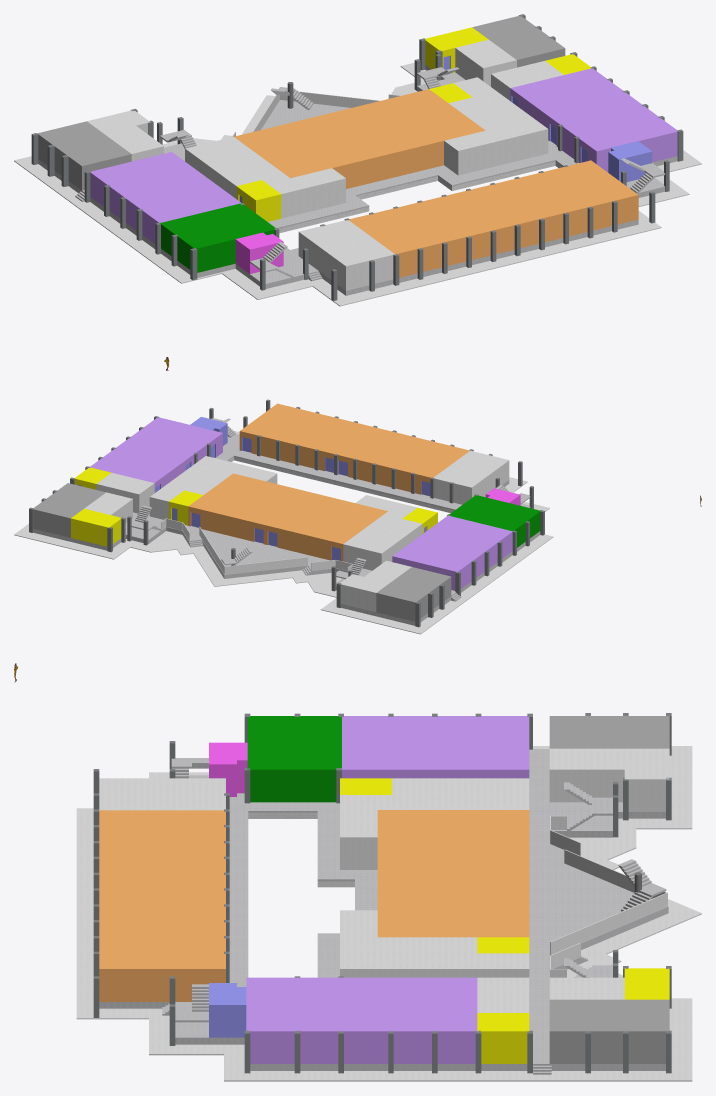
File: Annex 1GF.glb
3 renders of one model, top to bottom at view 1: azimuth 30°, elevation 25°; view 2: azimuth 150°, elevation 25°; view 3: azimuth 270°, elevation 25°, orthographic. The views are drawn at different scales.
Parts seen in each view (by area): view 1: object 64, object 80, object 66, object 76, object 72, object 92, object 87, object 85, object 93, object 94, object 90, object 75 (+10 smaller); view 2: object 64, object 80, object 72, object 66, object 92, object 93, object 85, object 87, object 76, object 94, object 75, object 88 (+10 smaller); view 3: object 80, object 64, object 66, object 72, object 87, object 76, object 92, object 85, object 93, object 90, object 94, object 82 (+11 smaller).
Part boxes in pixels (box(x1,y1,x2,y2)): object 64: box(14, 62, 701, 306); object 80: box(38, 65, 677, 295); object 66: box(510, 68, 677, 172); object 76: box(444, 39, 563, 175); object 72: box(470, 160, 638, 247); object 92: box(349, 190, 516, 277); object 87: box(90, 152, 241, 243); object 85: box(332, 89, 485, 178); object 93: box(234, 113, 387, 188); object 94: box(185, 137, 345, 218); object 90: box(160, 203, 275, 272); object 75: box(298, 220, 394, 290); object 64: box(14, 430, 553, 634); object 80: box(33, 434, 540, 625); object 72: box(239, 403, 373, 472); object 66: box(90, 417, 222, 492); object 92: box(337, 427, 469, 496); object 93: box(265, 492, 387, 561); object 85: box(188, 473, 310, 544); object 87: box(392, 515, 512, 590); object 76: box(84, 456, 277, 523); object 94: box(343, 495, 422, 570); object 75: box(433, 450, 509, 504); object 88: box(376, 567, 451, 621); object 80: box(99, 749, 668, 1070); object 64: box(76, 746, 701, 1081); object 66: box(246, 977, 477, 1063); object 72: box(99, 889, 225, 1001); object 87: box(342, 716, 529, 778); object 76: box(340, 910, 624, 1012); object 92: box(99, 810, 225, 889); object 85: box(377, 873, 529, 937); object 93: box(377, 810, 529, 873); object 90: box(247, 716, 341, 802); object 94: box(340, 778, 529, 869); object 82: box(549, 999, 669, 1063).
Bounding box in the file's own units: 76.01 × 3.6 × 55.11.
17 materials, 3 textured.
